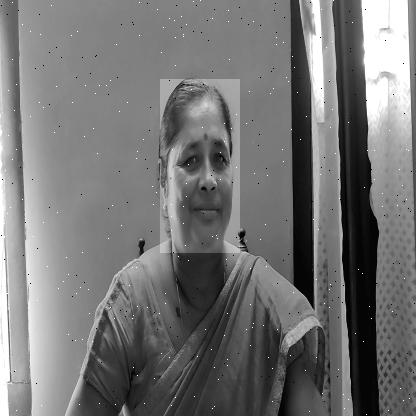Normal: (160, 79, 240, 253)
